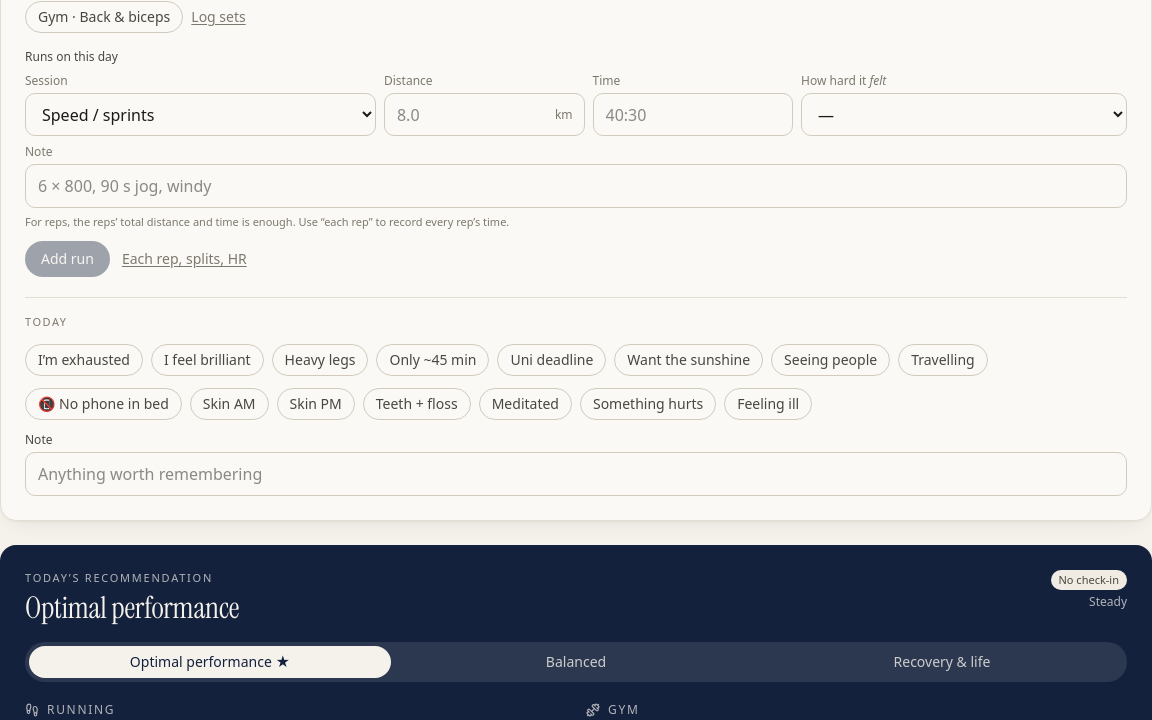
Test: interactions › a flag on Today changes the recommendation
The image size is (1152, 720).
(page scrolled)
Click the button "I’m exhausted": (84, 360) x1=25 y1=344 x2=143 y2=376
(page scrolled)
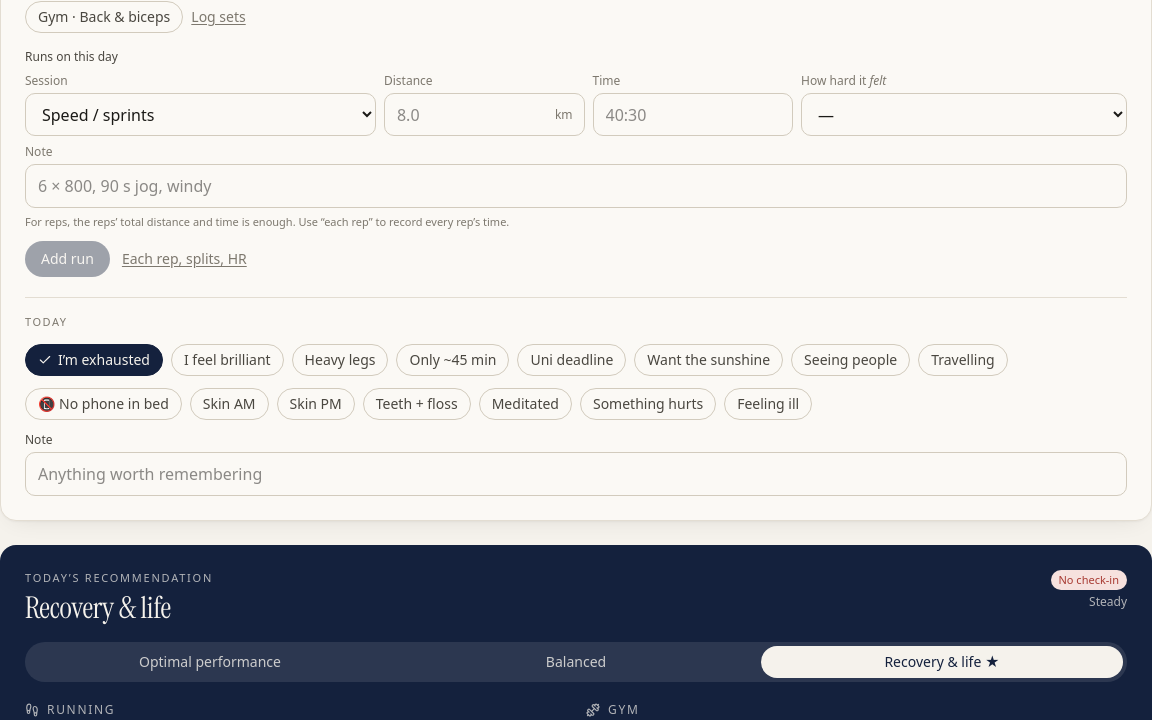
Result: the text "Recovery & life" below "Today’s recommendation" is shown at x1=25 y1=588 x2=171 y2=627
